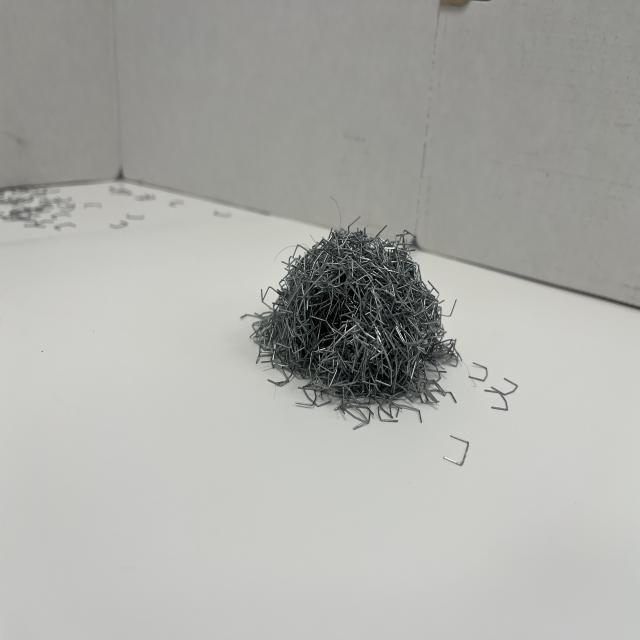staples: (241, 215, 462, 425)
